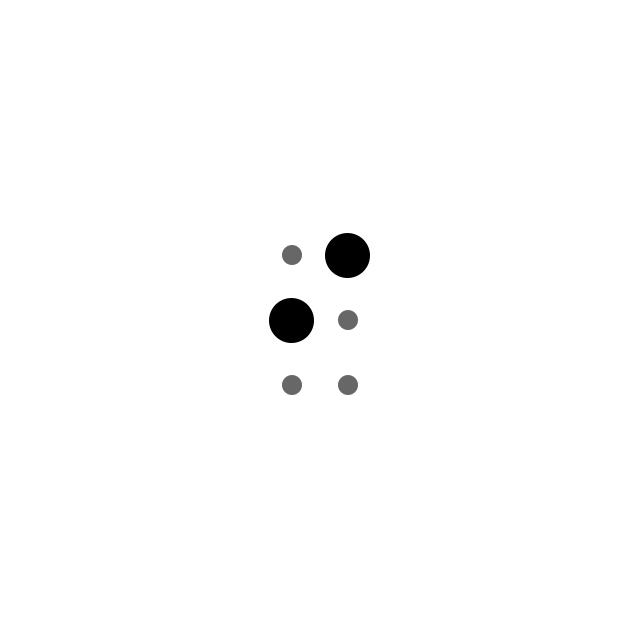I: (263, 228, 375, 414)
